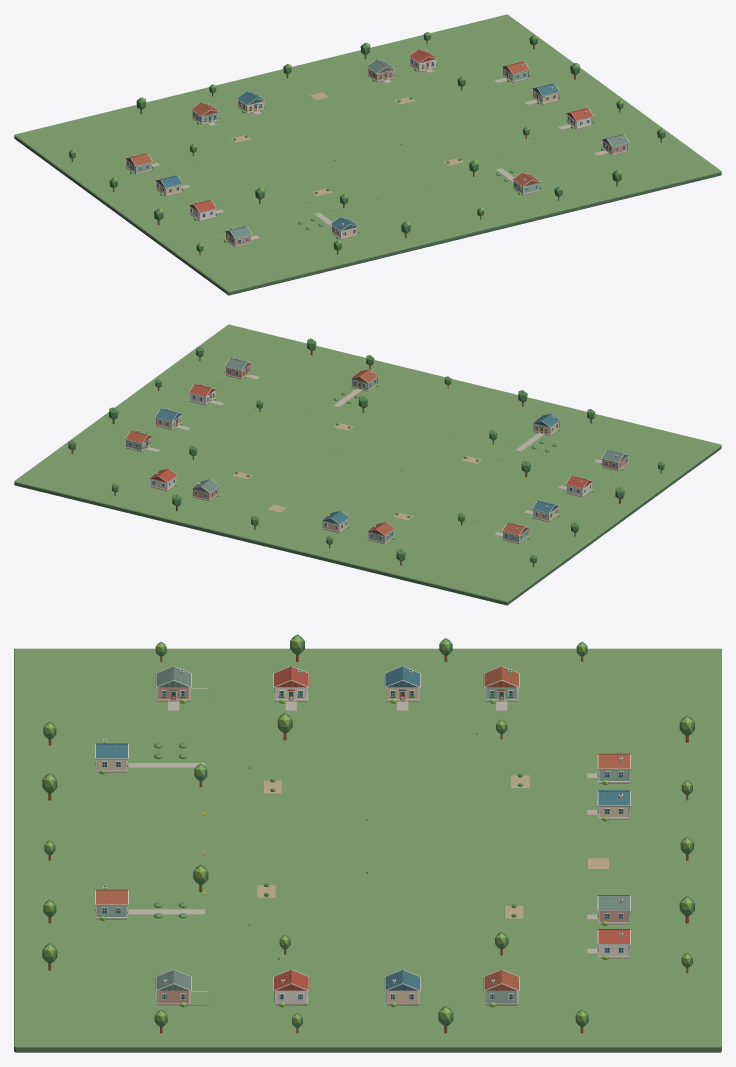
The model's file is expanded-ground.glb.
3 renders of one model, top to bottom at view 1: azimuth 30°, elevation 25°; view 2: azimuth 150°, elevation 25°; view 3: azimuth 270°, elevation 25°, orthographic. The views are drawn at different scales.
Visible parts, largest first — view 1: ExpandedGround, StreetFacingHouse11, StreetFacingHouse9, StreetFacingHouse12, StreetFacingHouse8, StreetFacingHouse10, StreetFacingHouse13, StreetFacingHouse3, StreetFacingHouse6, StreetFacingHouse7, StreetFacingHouse2, StreetFacingHouse1 (+1 smaller); view 2: ExpandedGround, StreetFacingHouse8, StreetFacingHouse10, StreetFacingHouse13, StreetFacingHouse9, StreetFacingHouse11, StreetFacingHouse12, StreetFacingHouse7, StreetFacingHouse2, StreetFacingHouse3, StreetFacingHouse6, StreetFacingHouse5 (+1 smaller); view 3: ExpandedGround, StreetFacingHouse4, StreetFacingHouse5, StreetFacingHouse7, StreetFacingHouse6, StreetFacingHouse0, StreetFacingHouse1, StreetFacingHouse3, StreetFacingHouse2, StreetFacingHouse12, StreetFacingHouse8, StreetFacingHouse13 (+3 smaller).
Boxes of the visible parts, x1,y1,x2,y2 form: ExpandedGround: (14,14,721,295); StreetFacingHouse11: (366,59,395,82); StreetFacingHouse9: (236,91,265,113); StreetFacingHouse12: (512,172,541,195); StreetFacingHouse8: (191,102,219,124); StreetFacingHouse10: (409,49,437,71); StreetFacingHouse13: (330,217,359,239); StreetFacingHouse3: (224,226,252,247); StreetFacingHouse6: (565,108,593,129); StreetFacingHouse7: (601,134,629,155); StreetFacingHouse2: (188,200,216,221); StreetFacingHouse1: (155,175,182,196); ExpandedGround: (14,324,721,605); StreetFacingHouse8: (366,521,395,544); StreetFacingHouse10: (149,468,177,491); StreetFacingHouse13: (532,413,560,435); StreetFacingHouse9: (321,510,349,533); StreetFacingHouse11: (191,479,219,501); StreetFacingHouse12: (350,369,378,391); StreetFacingHouse7: (224,357,252,379); StreetFacingHouse2: (565,476,593,497); StreetFacingHouse3: (601,450,628,471); StreetFacingHouse6: (188,383,216,405); StreetFacingHouse5: (155,408,182,429); ExpandedGround: (14,634,721,1052); StreetFacingHouse4: (483,969,519,1005); StreetFacingHouse5: (384,969,420,1005); StreetFacingHouse7: (155,969,191,1005); StreetFacingHouse6: (273,969,309,1005); StreetFacingHouse0: (483,666,519,701); StreetFacingHouse1: (384,666,420,701); StreetFacingHouse3: (155,666,191,701); StreetFacingHouse2: (273,666,309,701); StreetFacingHouse12: (95,886,128,919); StreetFacingHouse8: (597,753,630,783); StreetFacingHouse13: (95,739,128,772).
Size of the model in its own units: 152 by 6.17 by 114.
32 materials, 4 textured.
